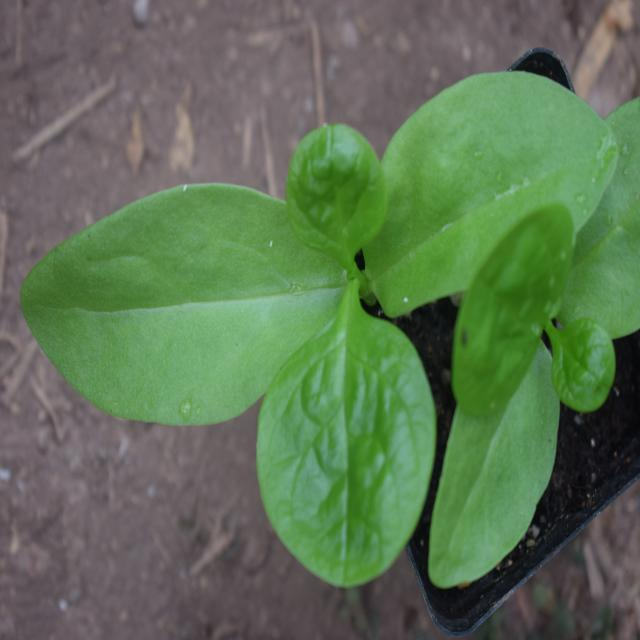Ceylon spinach: (72, 65, 610, 556)
